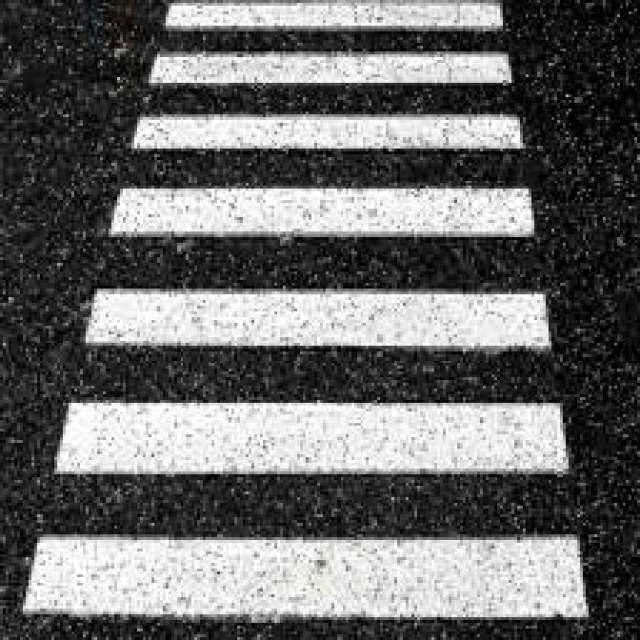crosswalk: (7, 2, 575, 639)
